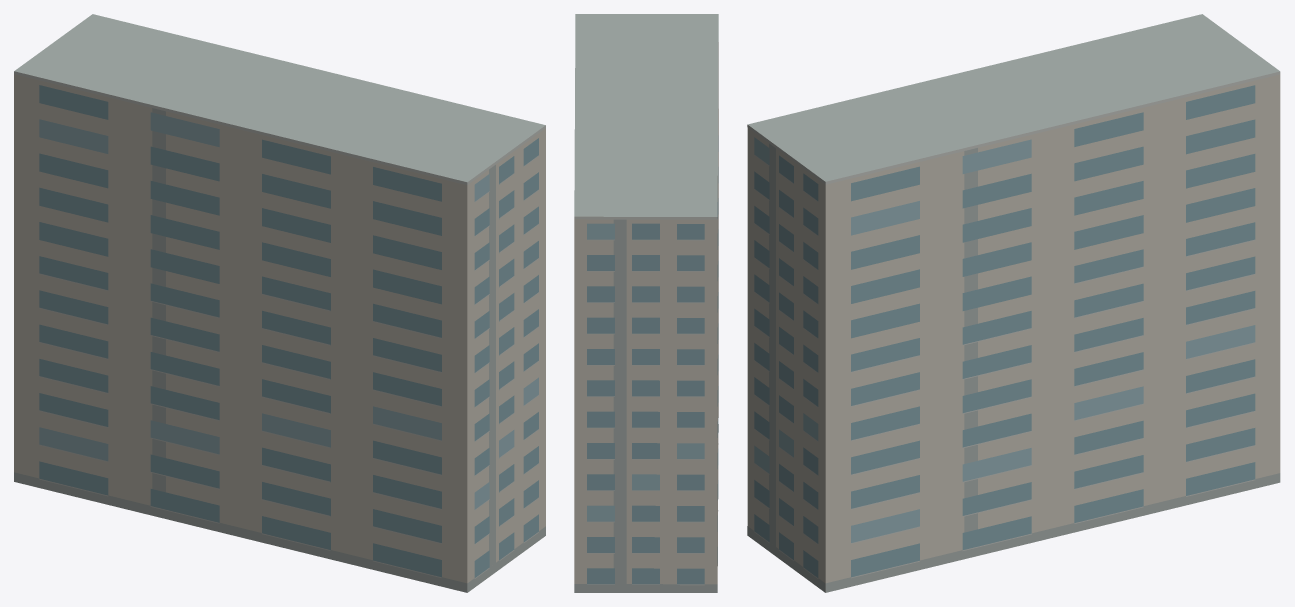
Rendered from residential-3d12a1b5-c497-421c-9cbb-613f4568abc8.glb.
The picture shows the model from 3 angles, left to right: view 1: azimuth 30°, elevation 25°; view 2: azimuth 150°, elevation 25°; view 3: azimuth 270°, elevation 25°; orthographic projection. The views are drawn at different scales.
Parts seen in each view (by area): view 1: residential-3d12a1b5-c497-421c-9cbb-613f4568abc8.tmp; view 2: residential-3d12a1b5-c497-421c-9cbb-613f4568abc8.tmp; view 3: residential-3d12a1b5-c497-421c-9cbb-613f4568abc8.tmp.
Part boxes in pixels (box(x1,y1,x2,y2)): residential-3d12a1b5-c497-421c-9cbb-613f4568abc8.tmp: box(14, 14, 545, 592); residential-3d12a1b5-c497-421c-9cbb-613f4568abc8.tmp: box(574, 14, 718, 592); residential-3d12a1b5-c497-421c-9cbb-613f4568abc8.tmp: box(747, 14, 1280, 592).
Size of the model in its own units: 29.78 by 34 by 39.95.
